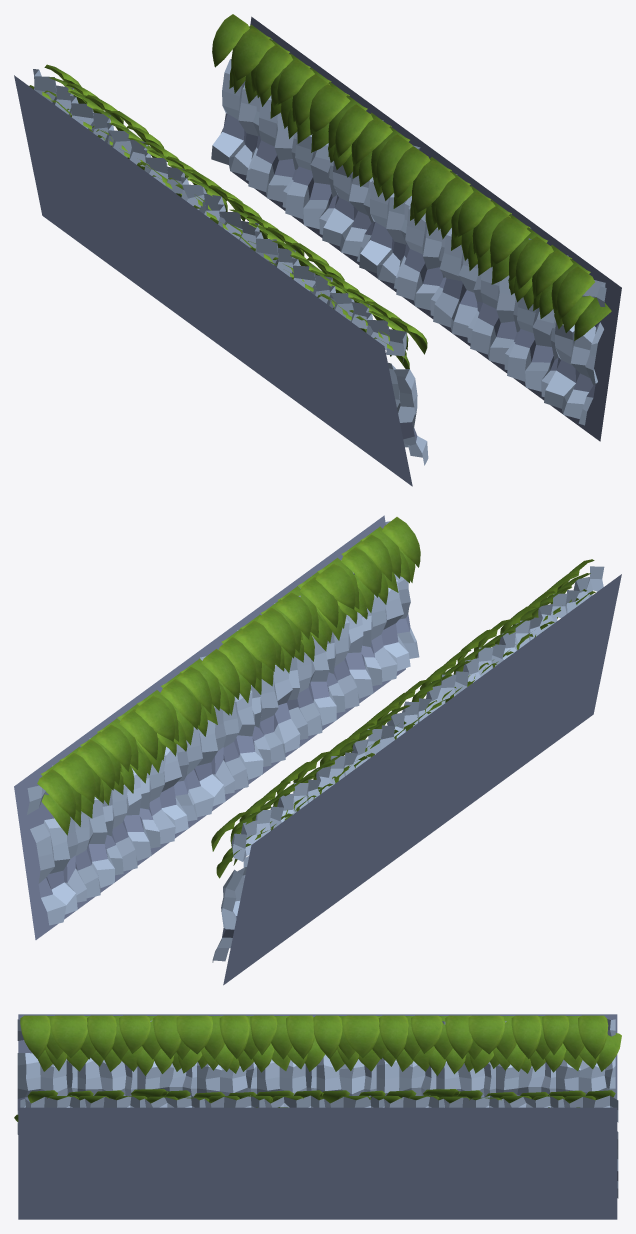
File: terrainOpen.glb
3 renders of one model, top to bottom at view 1: azimuth 30°, elevation 25°; view 2: azimuth 150°, elevation 25°; view 3: azimuth 270°, elevation 25°, orthographic. The views are drawn at different scales.
Visible parts, largest first — view 1: Plane, Plane.001, grassmain.003, grassmain.002, Plane.032, Plane.002, Plane.004, grassmain, grassmain.001; view 2: Plane, Plane.001, grassmain.002, grassmain.003, Plane.032, Plane.004, Plane.002, grassmain.001, grassmain; view 3: Plane.004, Plane.032, grassmain.001, grassmain, Plane.001, grassmain.003, grassmain.002, Plane.
Boxes of the visible parts, x1,y1,x2,y2 form: Plane: [14, 75, 412, 486]; Plane.001: [211, 39, 606, 425]; grassmain.003: [392, 146, 611, 340]; grassmain.002: [212, 14, 413, 208]; Plane.032: [33, 69, 428, 465]; Plane.002: [222, 113, 597, 397]; Plane.004: [232, 16, 621, 441]; grassmain: [210, 196, 427, 368]; grassmain.001: [29, 64, 245, 221]; Plane: [223, 574, 621, 985]; Plane.001: [27, 521, 419, 925]; grassmain.002: [37, 649, 239, 835]; grassmain.003: [218, 517, 420, 702]; Plane.032: [212, 566, 604, 962]; Plane.004: [14, 515, 405, 939]; Plane.002: [38, 614, 410, 897]; grassmain.001: [211, 691, 414, 878]; grassmain: [392, 559, 595, 731]; Plane.004: [18, 1107, 617, 1219]; Plane.032: [17, 1019, 615, 1134]; grassmain.001: [313, 1015, 621, 1075]; grassmain: [20, 1015, 325, 1075]; Plane.001: [20, 1095, 618, 1198]; grassmain.003: [14, 1089, 323, 1121]; grassmain.002: [319, 1089, 615, 1107]; Plane: [18, 1014, 617, 1099].
Bounding box in the file's own units: 23.62 × 15.2 × 64.75.
Materials: 3 (1 with a texture image).
